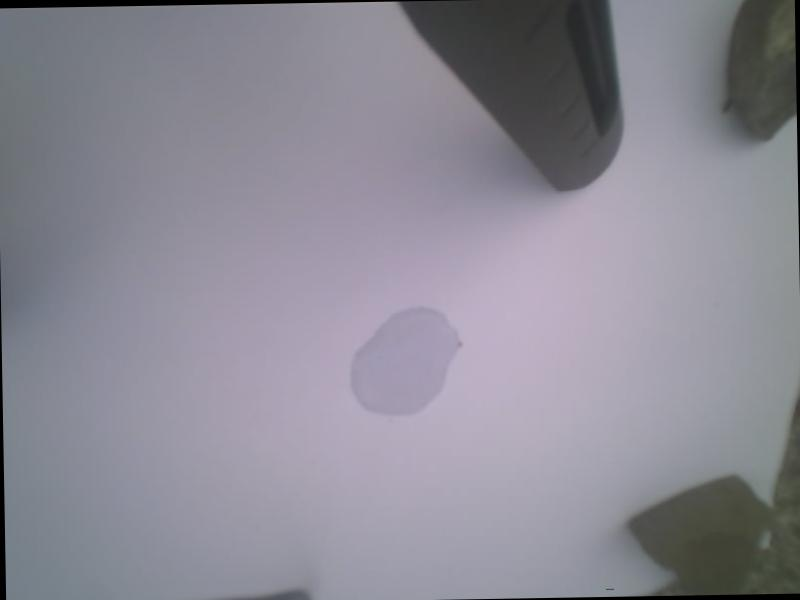Ant: (720, 99, 732, 112)
